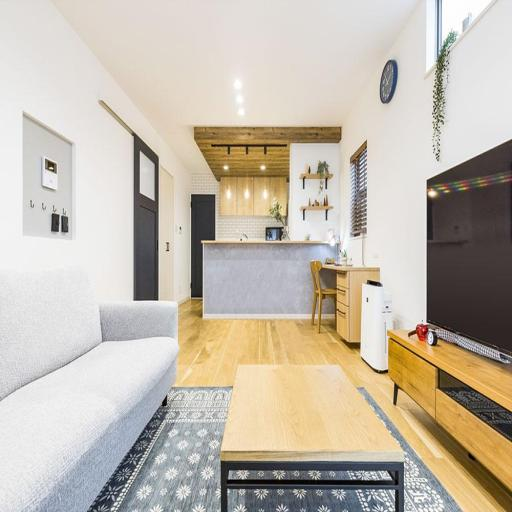table: (218, 359, 406, 507)
